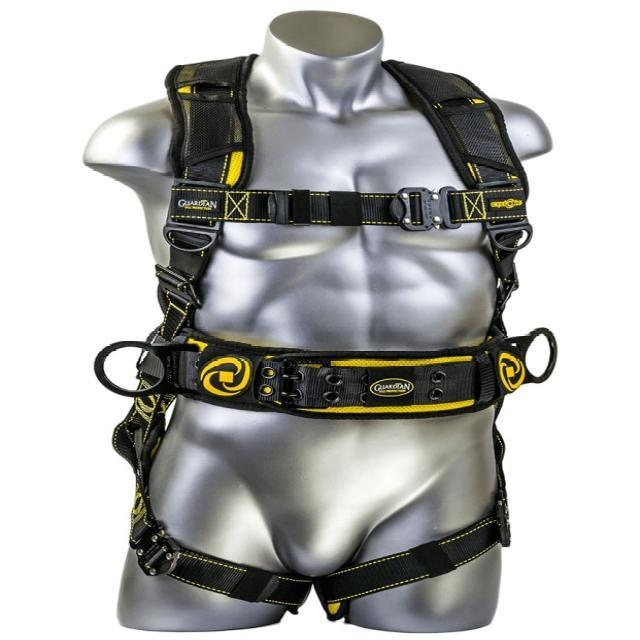Arnes_seguridad: (94, 45, 548, 610)
